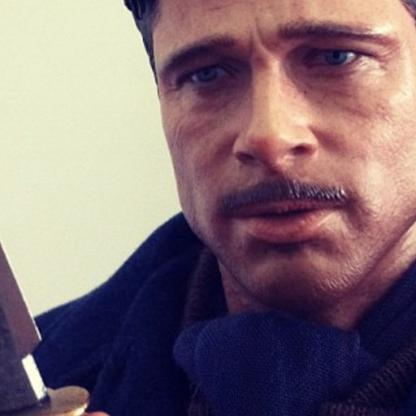knife: (0, 0, 90, 415)
